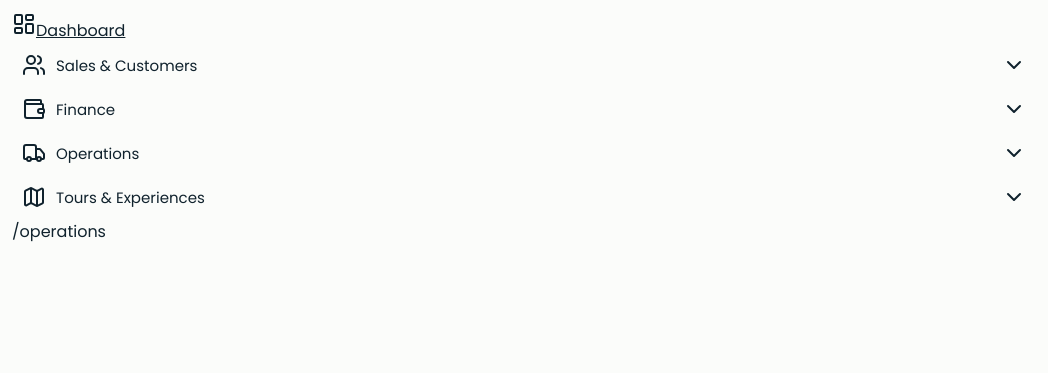
Test: administration navigation › hides admin-only pages and empty groups from staff
This screenshot has width=1048, height=373.
Step 1. Click the button "Operations" → (98, 153), box [12, 131, 1036, 175]
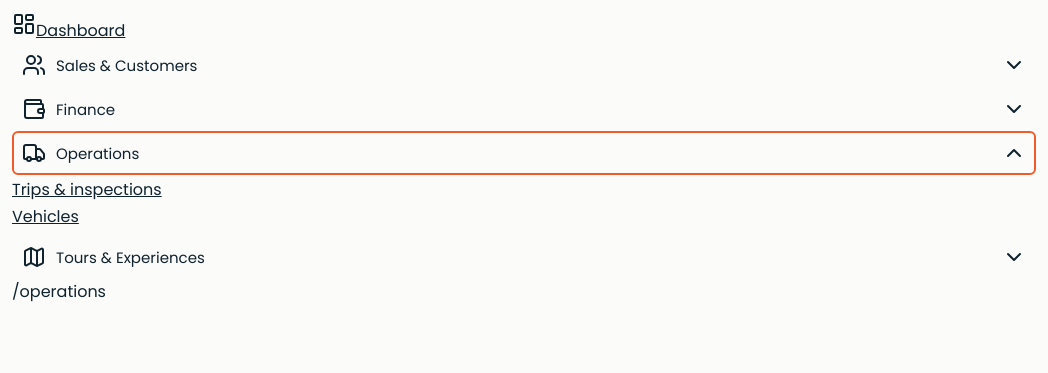
Step 2. Click the button "Sales & Customers" → (127, 65), box [12, 43, 1036, 87]
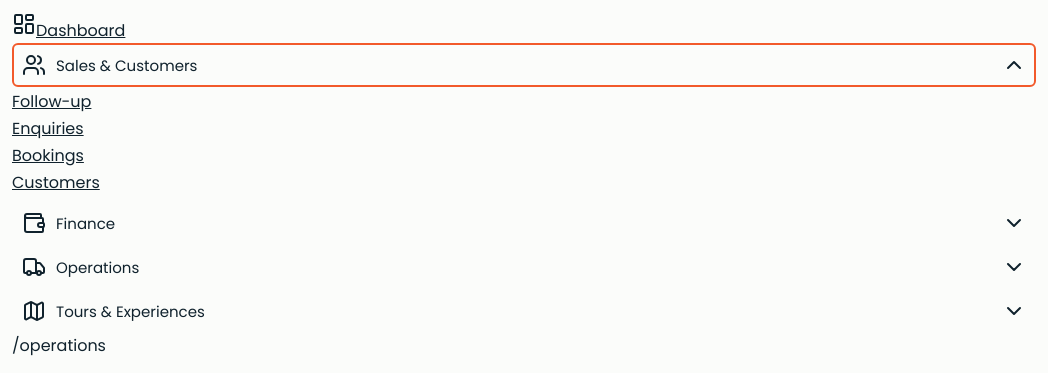
Expected: the link "Follow-up" is shown, [12, 90, 91, 113]
Step 3. Click the button "Tours & Experiences" → (130, 311), box [12, 289, 1036, 333]
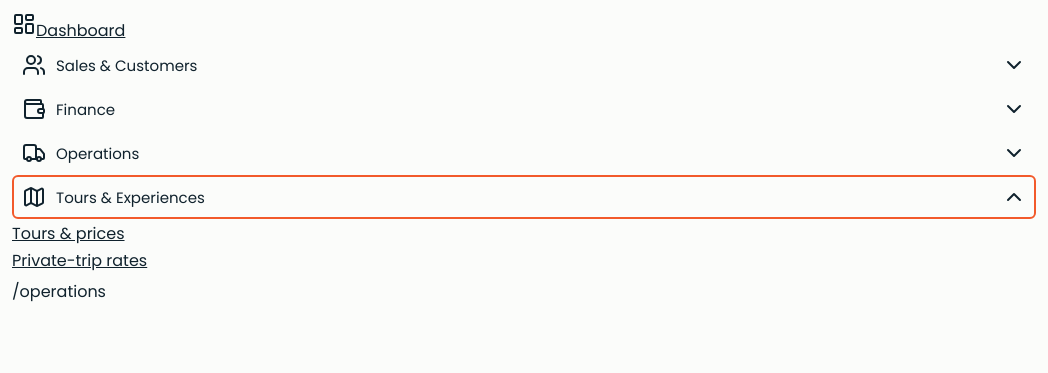
Expected: the link "Private-trip rates" is shown, [12, 249, 147, 272]
